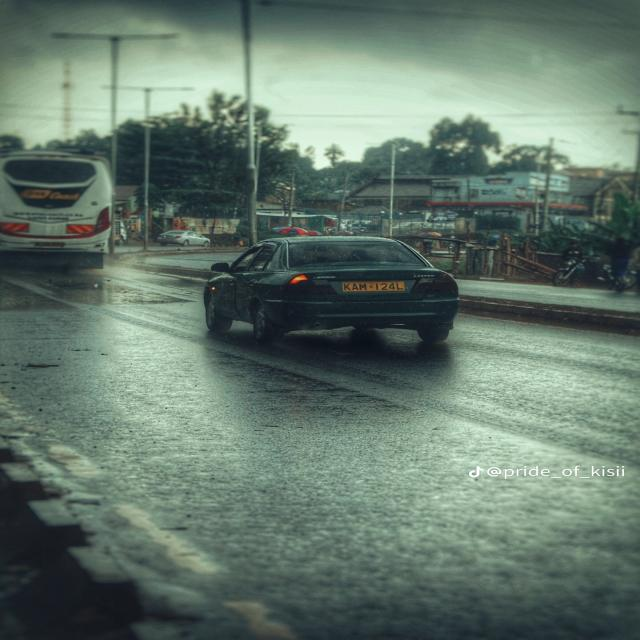bus: (0, 117, 156, 295)
